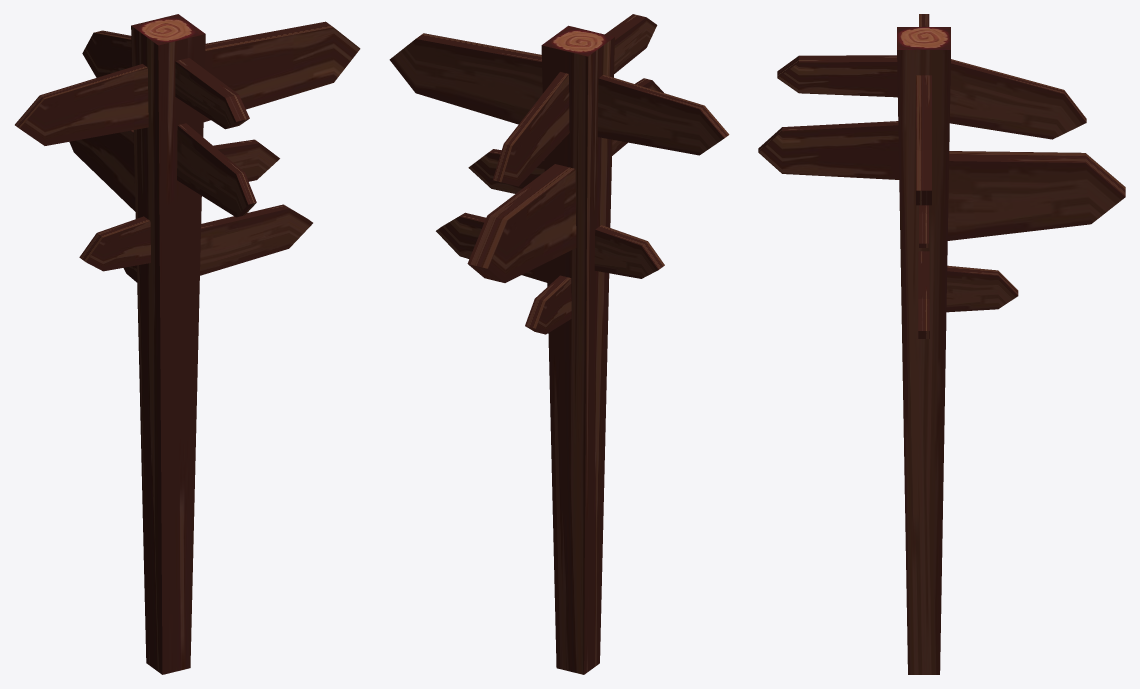
File: SM_PROP_signpost_01.glb
3 renders of one model, left to right at view 1: azimuth 30°, elevation 25°; view 2: azimuth 150°, elevation 25°; view 3: azimuth 270°, elevation 25°, orthographic.
Visible parts, largest first — view 1: SM_PROP_signpost_01_EXPORT; view 2: SM_PROP_signpost_01_EXPORT; view 3: SM_PROP_signpost_01_EXPORT.
Part boxes in pixels (x1,y1,x2,y2): SM_PROP_signpost_01_EXPORT: (15,14,360,674); SM_PROP_signpost_01_EXPORT: (389,14,729,674); SM_PROP_signpost_01_EXPORT: (758,14,1125,674).
Size of the model in its own units: 2.3 by 4.12 by 2.18.
Materials: 2 (2 with a texture image).
